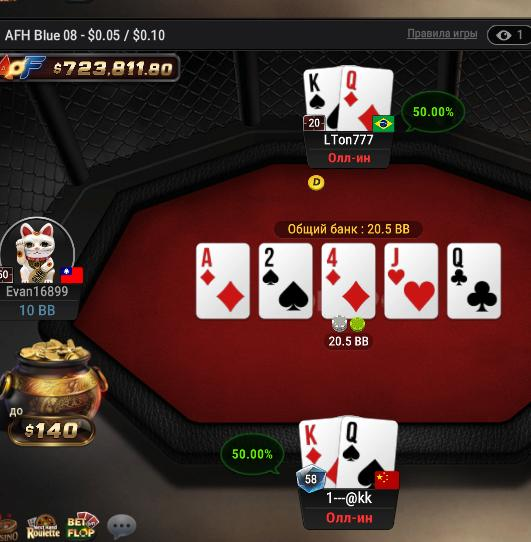2s: (260, 243, 312, 319)
4d: (321, 244, 376, 318)
Ad: (197, 243, 248, 318)
Jh: (384, 244, 436, 318)
Kd: (297, 418, 339, 491)
Ks: (303, 67, 340, 131)
Qc: (447, 244, 501, 319)
Qd: (340, 65, 393, 131)
Qs: (337, 415, 398, 489)
